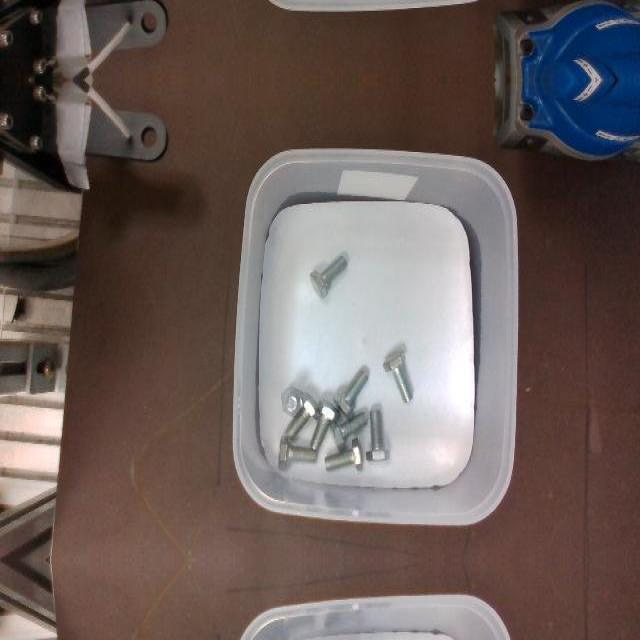screw: (333, 369, 368, 419), (284, 391, 320, 439), (382, 349, 413, 403), (310, 398, 341, 450), (309, 256, 347, 298), (330, 410, 367, 452), (324, 436, 363, 470), (365, 409, 390, 461), (278, 435, 316, 469), (281, 383, 303, 417)
